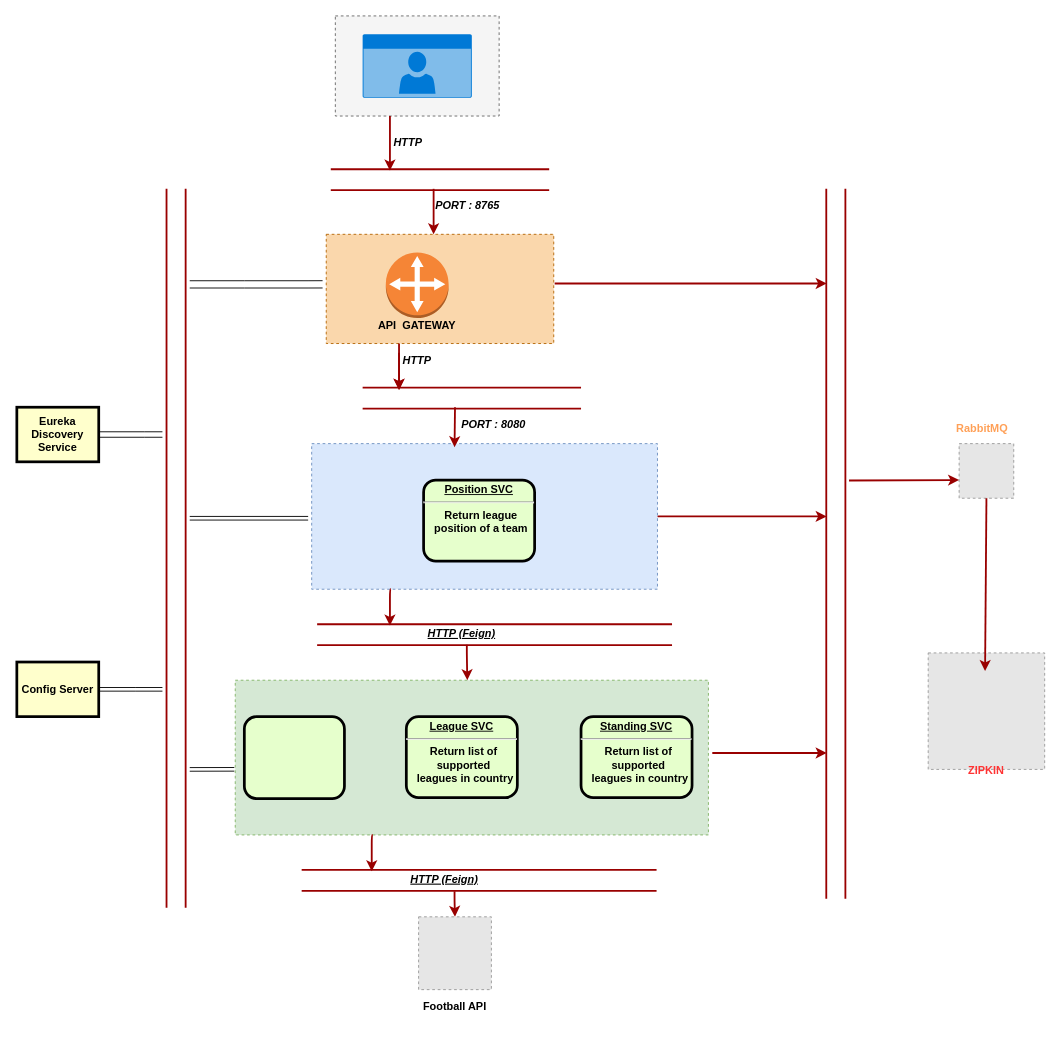
The diagram is 1061 pixels wide and 1042 high, and some of its shapes have lost their labels. Grey dashed boxes stand in for pictures. The centre of each missing label's shape, as x and y in pixels:
"Country SVC Return list of countries" goes at point 294,757.
"User" goes at point 416,65.
